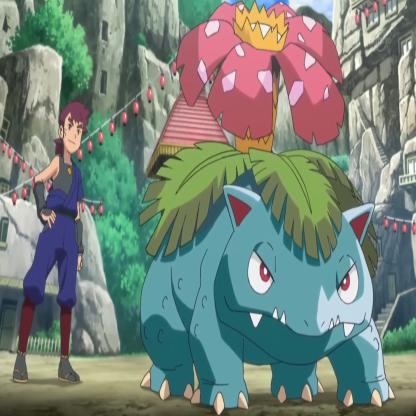Venusaur: (134, 11, 387, 416)
